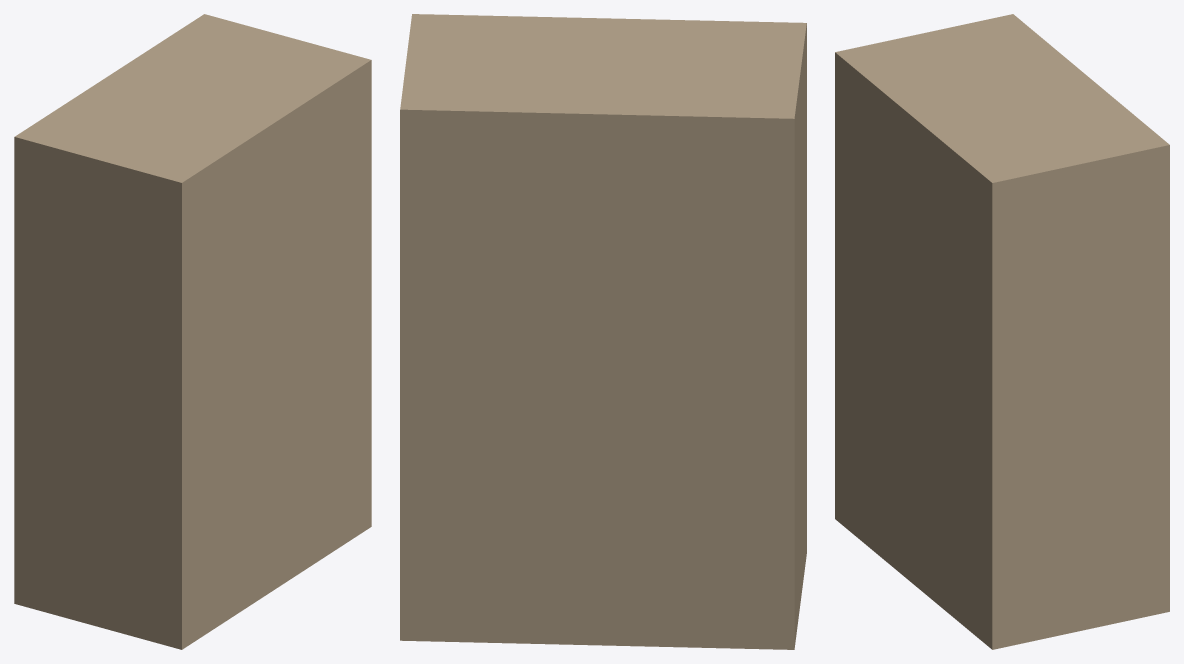
Rendered from bld_109034774.dae.
The picture shows the model from 3 angles, left to right: view 1: azimuth 30°, elevation 25°; view 2: azimuth 150°, elevation 25°; view 3: azimuth 270°, elevation 25°; orthographic projection. The views are drawn at different scales.
Visible parts, largest first — view 1: bld_109034774; view 2: bld_109034774; view 3: bld_109034774.
Part boxes in pixels (<box>): bld_109034774: <box>14,14,371,649</box>; bld_109034774: <box>400,14,806,649</box>; bld_109034774: <box>835,14,1169,649</box>.
Size of the model in its own units: 6.21 by 5.2 by 8.
